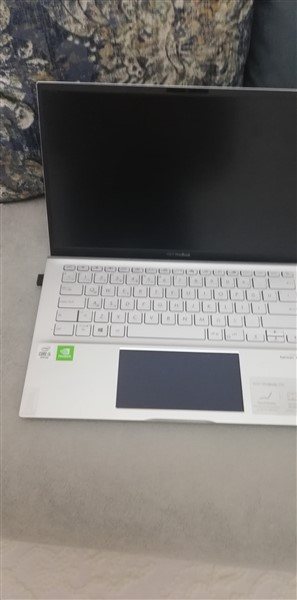laptop: (16, 79, 297, 431)
